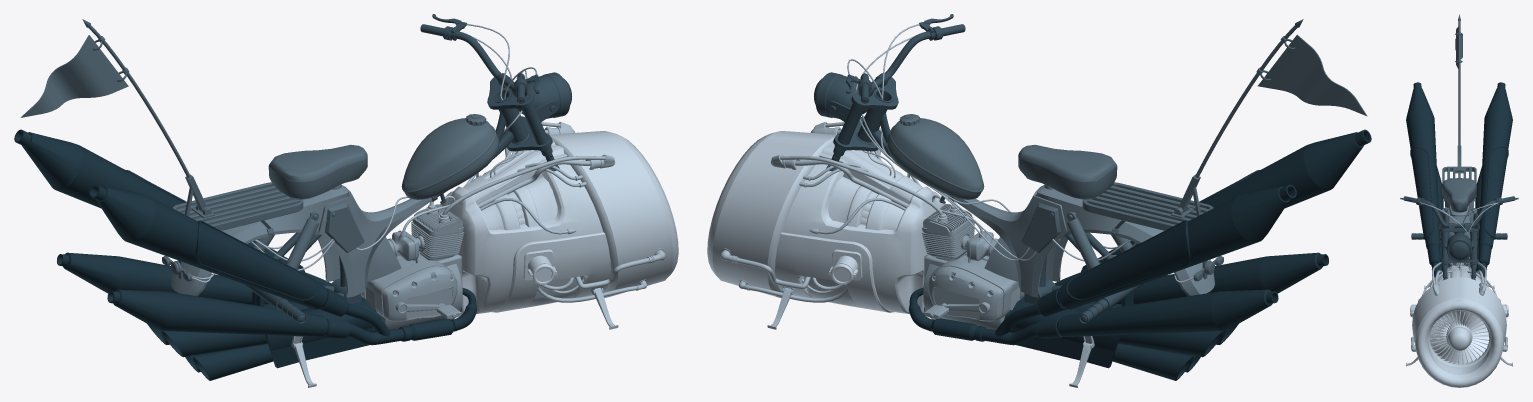
Rendered from FlyingMotor.fbx.
3 renders of one model, left to right at view 1: azimuth 30°, elevation 25°; view 2: azimuth 150°, elevation 25°; view 3: azimuth 270°, elevation 25°, orthographic. The views are drawn at different scales.
Parts seen in each view (by area): view 1: reacteur_main_low, pipes_muffler02_low, pipes_muffler01_low, accessoire_fuelTank_low, reacteur_second_low, pipes_cover_low, plastic_main_low, accessoire_banc_low, accessoire_flag01_low, moteur_bigPiece_low, accessoire_backseat_low, plastic_second_low (+24 smaller); view 2: reacteur_main_low, pipes_muffler02_low, pipes_muffler01_low, accessoire_fuelTank_low, reacteur_second_low, pipes_cover_low, plastic_main_low, accessoire_banc_low, accessoire_flag01_low, moteur_bigPiece_low, accessoire_backseat_low, plastic_second_low (+24 smaller); view 3: reacteur_main_low, pipes_muffler01_low, pipes_cover_low, reacteur_helice_low, accessoire_banc_low, reacteur_deep_low, pipes_muffler02_low, Skelet_holder_low, reacteur_nose_low, Skelet_wheel_low, accessoire_flag02_low, Skelet_lentille_low (+18 smaller).
Part boxes in pixels (bbox=[...]): reacteur_main_low: bbox=[440, 131, 678, 314]; pipes_muffler02_low: bbox=[57, 252, 350, 336]; pipes_muffler01_low: bbox=[14, 129, 348, 316]; accessoire_fuelTank_low: bbox=[401, 118, 498, 199]; reacteur_second_low: bbox=[492, 232, 610, 312]; pipes_cover_low: bbox=[126, 170, 320, 301]; plastic_main_low: bbox=[317, 189, 432, 297]; accessoire_banc_low: bbox=[268, 144, 367, 199]; accessoire_flag01_low: bbox=[20, 35, 128, 117]; moteur_bigPiece_low: bbox=[361, 252, 461, 321]; accessoire_backseat_low: bbox=[172, 182, 303, 230]; plastic_second_low: bbox=[171, 184, 348, 296]; reacteur_main_low: bbox=[707, 131, 945, 314]; pipes_muffler02_low: bbox=[1035, 252, 1328, 336]; pipes_muffler01_low: bbox=[1037, 129, 1371, 316]; accessoire_fuelTank_low: bbox=[887, 118, 984, 199]; reacteur_second_low: bbox=[775, 232, 893, 312]; pipes_cover_low: bbox=[1065, 170, 1259, 301]; plastic_main_low: bbox=[954, 189, 1068, 297]; accessoire_banc_low: bbox=[1018, 144, 1117, 199]; accessoire_flag01_low: bbox=[1258, 34, 1367, 116]; moteur_bigPiece_low: bbox=[924, 252, 1024, 321]; accessoire_backseat_low: bbox=[1082, 182, 1213, 230]; plastic_second_low: bbox=[1037, 184, 1214, 296]; reacteur_main_low: bbox=[1412, 266, 1506, 387]; pipes_muffler01_low: bbox=[1406, 82, 1512, 265]; pipes_cover_low: bbox=[1410, 146, 1508, 238]; reacteur_helice_low: bbox=[1429, 311, 1489, 364]; accessoire_banc_low: bbox=[1442, 178, 1476, 212]; reacteur_deep_low: bbox=[1428, 310, 1490, 368]; pipes_muffler02_low: bbox=[1431, 167, 1487, 273]; Skelet_holder_low: bbox=[1441, 232, 1477, 268]; reacteur_nose_low: bbox=[1448, 327, 1470, 350]; Skelet_wheel_low: bbox=[1422, 200, 1496, 227]; accessoire_flag02_low: bbox=[1458, 14, 1460, 145]; Skelet_lentille_low: bbox=[1448, 241, 1470, 260].
Size of the model in its own units: 570 by 342 by 165.
